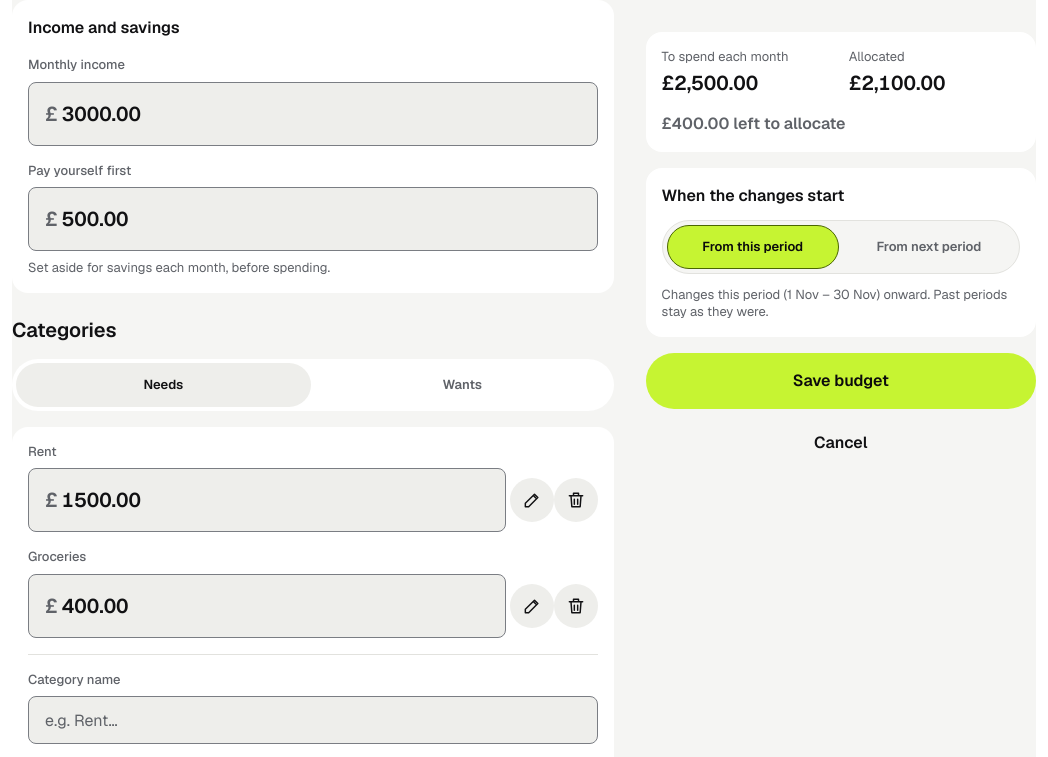
Test case: BudgetEditor › asks when the changes start: from this period by default, or from the next
expect the radio button labelled "From this period" is checked: met, box [667, 224, 839, 268]
expect the text "Past periods stay as they were" is shown: met, box [662, 286, 1007, 320]
Click the radio button labelled "From next period".
click(929, 246)  # box [843, 224, 1015, 268]
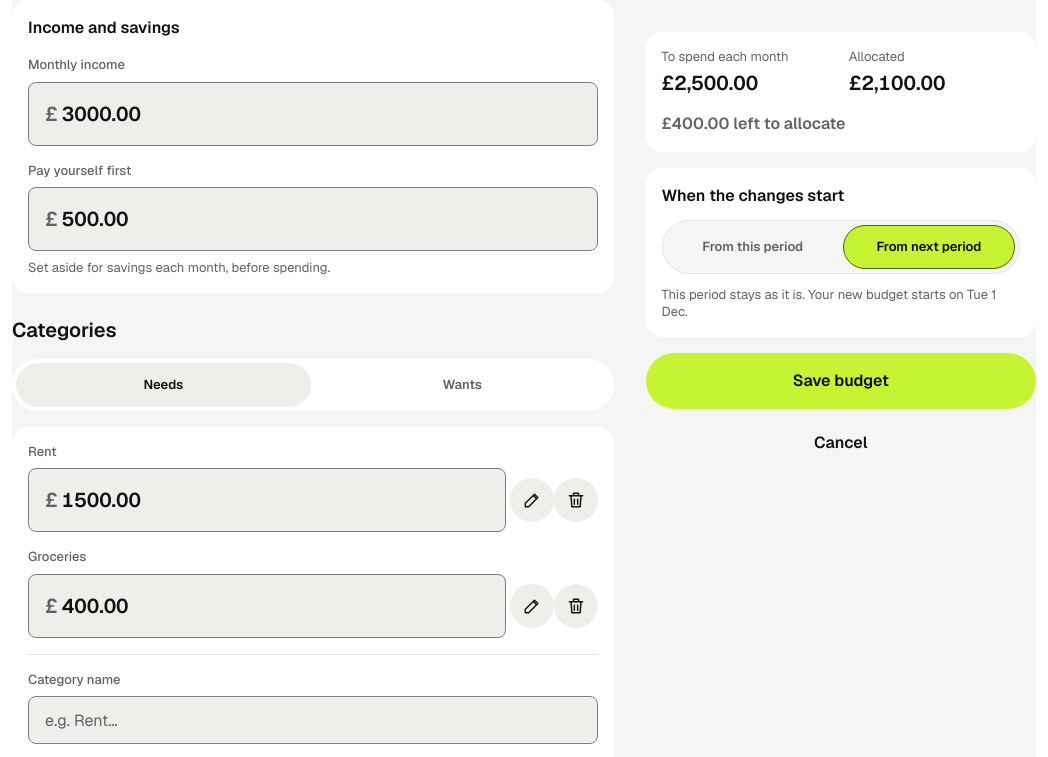
expect the radio button labelled "From next period" is checked: met, box [843, 224, 1015, 268]
expect the text "starts on Tue 1 Dec" is shown: met, box [662, 286, 996, 320]
